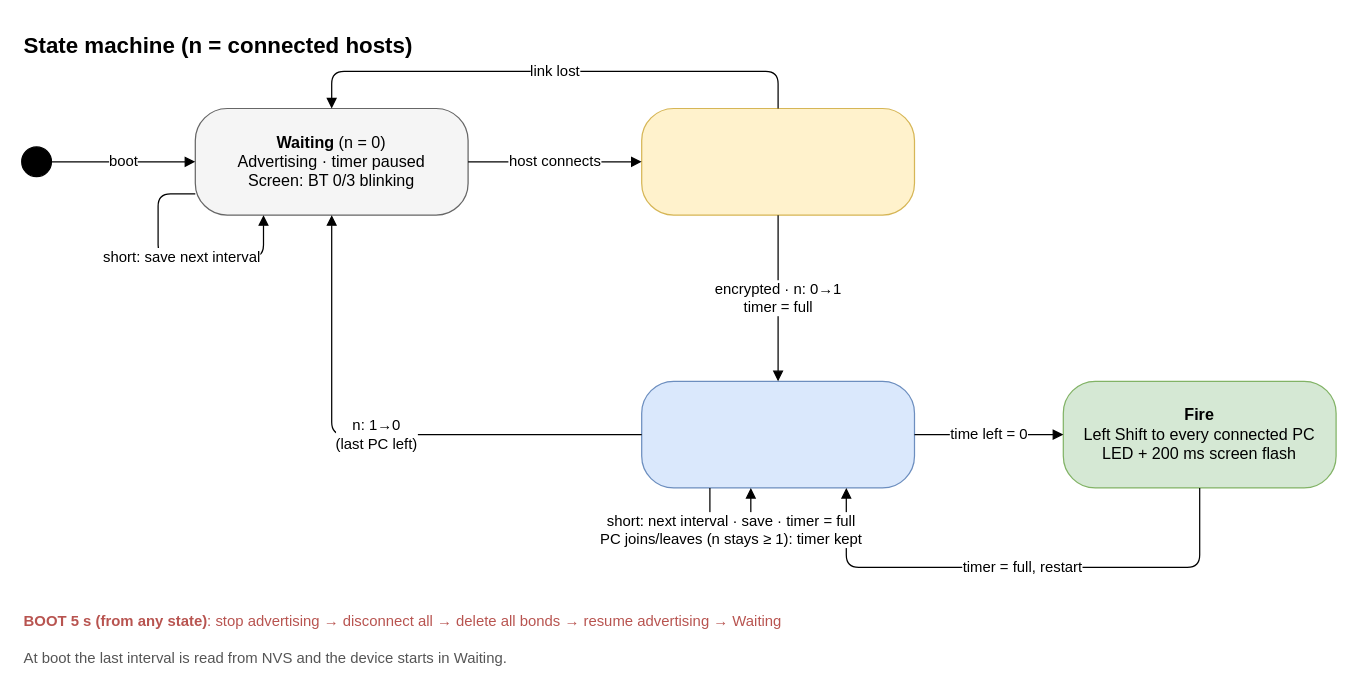
Some shapes in this 1358 by 692 pixel diagram are drawn without their labels. Here are the shapes that lost their labels. From the top down, the centre of each, then its label:
point (777, 161): Linked GAP link up pairing / encrypting
point (777, 434): Counting (n ≥ 1) Timer running, advertising while n < 3 Screen: BT n/3 · M:SS
